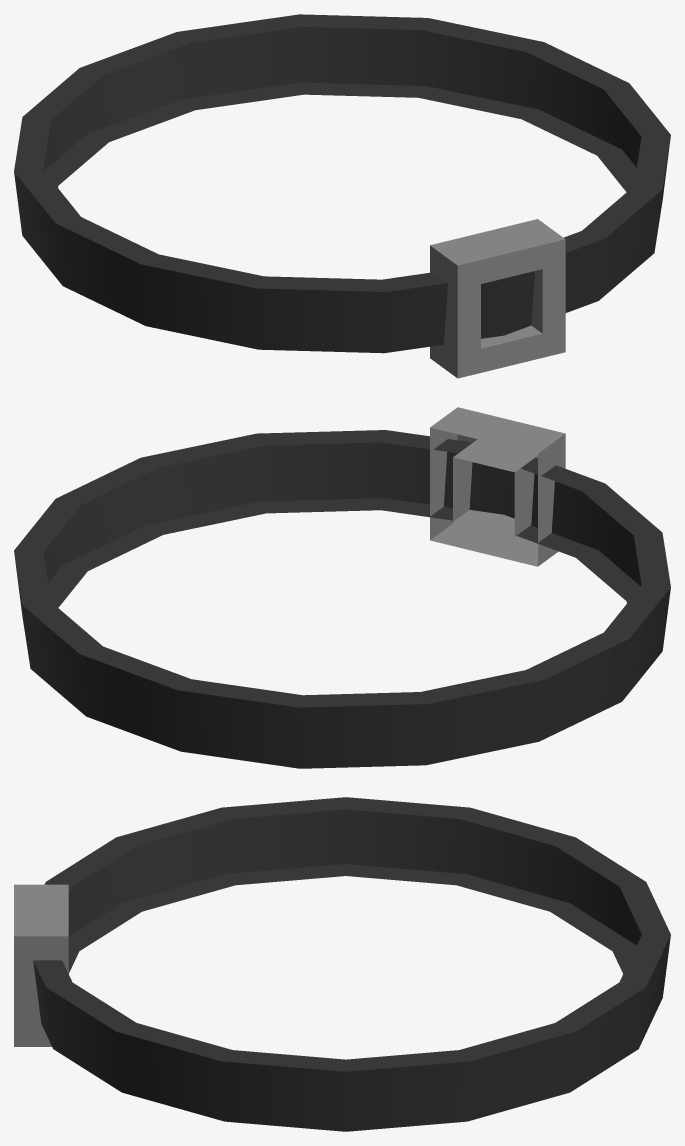
Rendered from Body_Prop_Waist_02.fbx.
3 renders of one model, top to bottom at view 1: azimuth 30°, elevation 25°; view 2: azimuth 150°, elevation 25°; view 3: azimuth 270°, elevation 25°, orthographic.
Parts seen in each view (by area): view 1: Body_Prop_Waist_02; view 2: Body_Prop_Waist_02; view 3: Body_Prop_Waist_02.
Boxes of the visible parts, bbox=[...] form: Body_Prop_Waist_02: bbox=[14, 14, 670, 378]; Body_Prop_Waist_02: bbox=[14, 407, 670, 768]; Body_Prop_Waist_02: bbox=[14, 797, 670, 1131].
Size of the model in its own units: 103 by 19.42 by 104.
